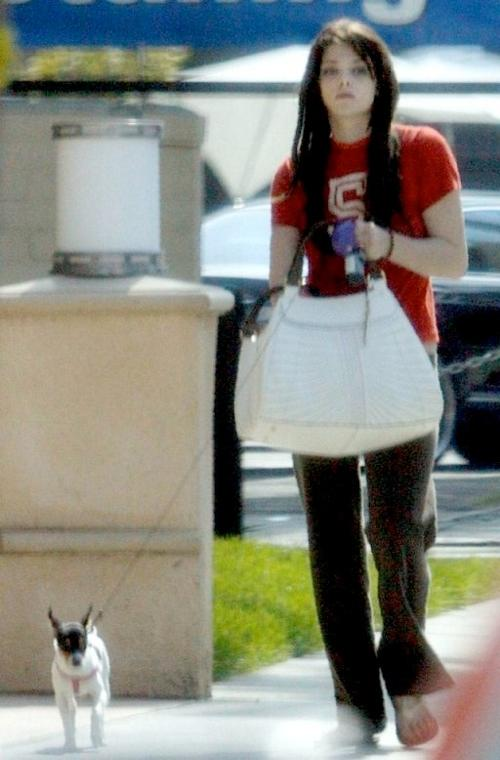person: (270, 20, 471, 750)
